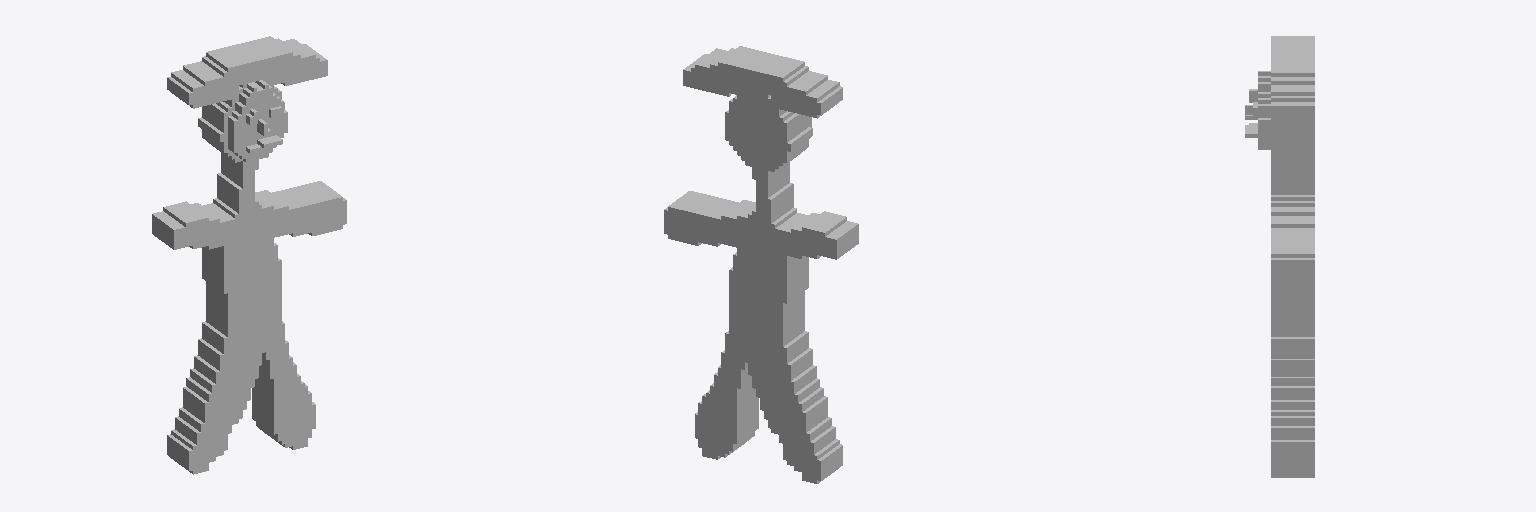
Rendered from telali.obj.
3 renders of one model, left to right at view 1: azimuth 30°, elevation 25°; view 2: azimuth 150°, elevation 25°; view 3: azimuth 270°, elevation 25°, orthographic.
Parts seen in each view (by area): view 1: object 1; view 2: object 1; view 3: object 1.
Part boxes in pixels (x1,y1,x2,y2): object 1: (152,36,346,474); object 1: (664,46,858,483); object 1: (1245,36,1314,477).
Size of the model in its own units: 4.5 by 9.9 by 1.6.